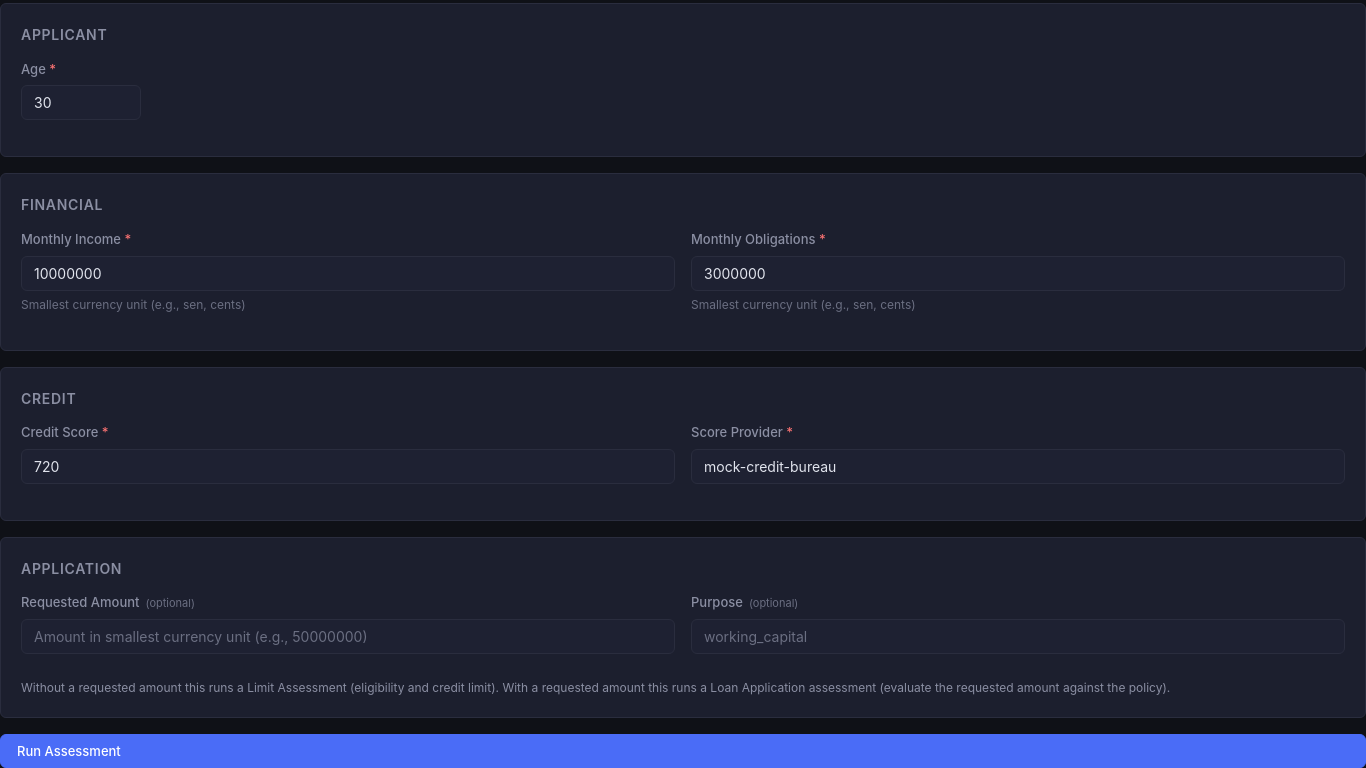
Test: NewAssessment (Assessment Simulator) › renders decision reasons from the backend
(page scrolled)
Click the button "Run Assessment" at [69, 751], box [0, 734, 1365, 767]
(page scrolled)
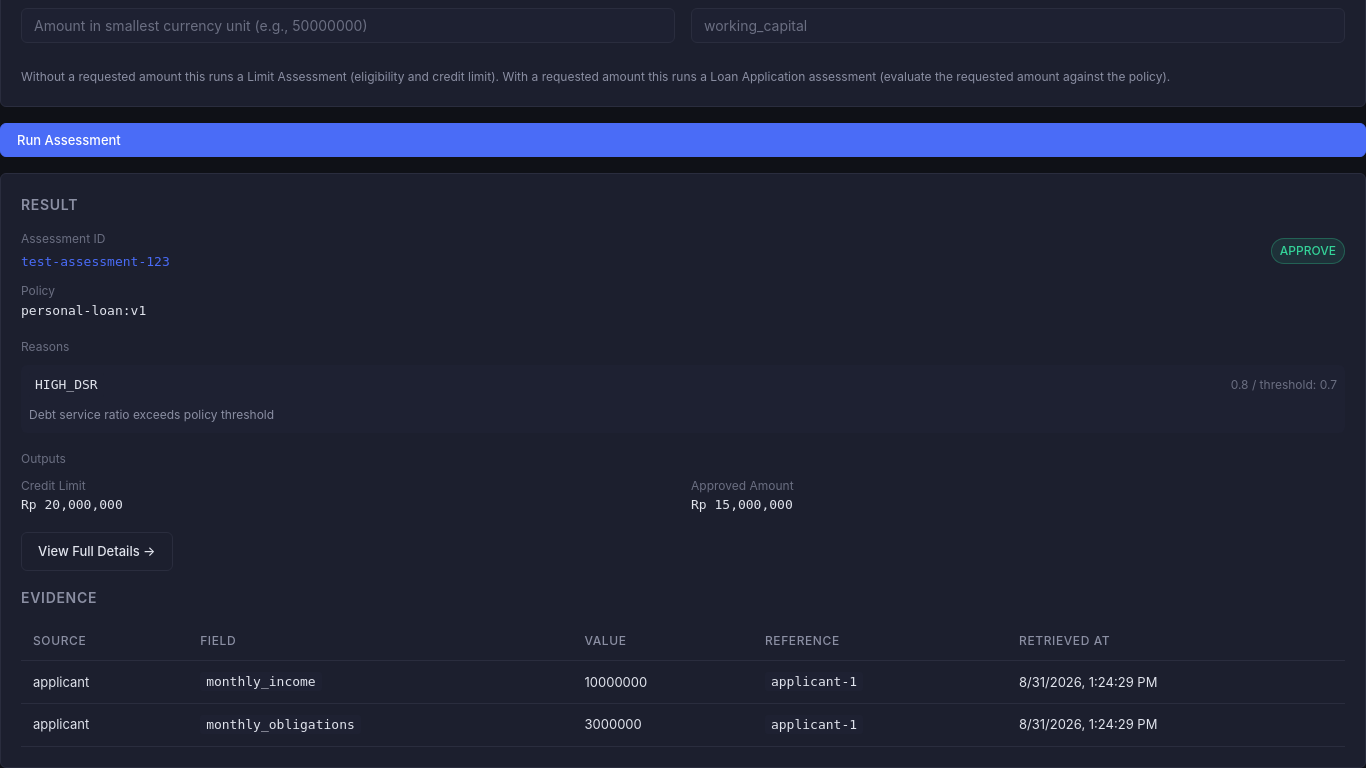
Expected: the text "HIGH_DSR" is shown, [29, 373, 104, 397]
Expected: the text "Debt service ratio exceeds policy threshold" is shown, [29, 407, 274, 422]
Expected: the text "0.8 / threshold: 0.7" is shown, [1231, 375, 1337, 395]
